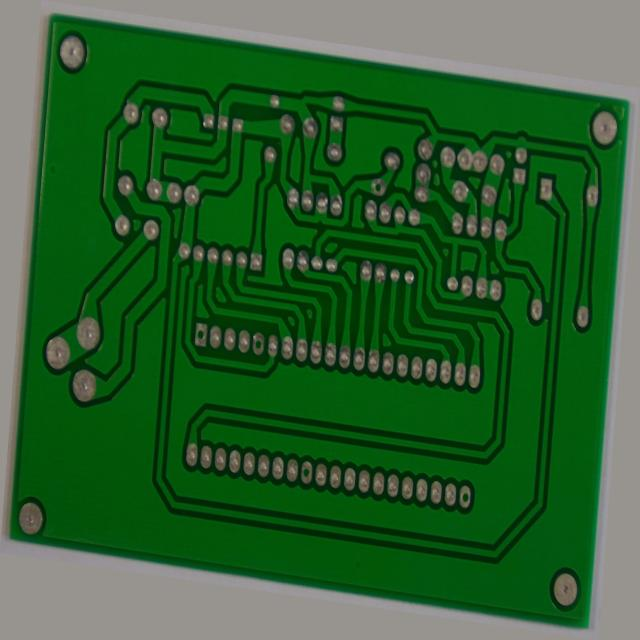missing_hole: (478, 481, 497, 514), (308, 481, 328, 512), (248, 342, 266, 372), (187, 340, 204, 371), (361, 144, 381, 169)
